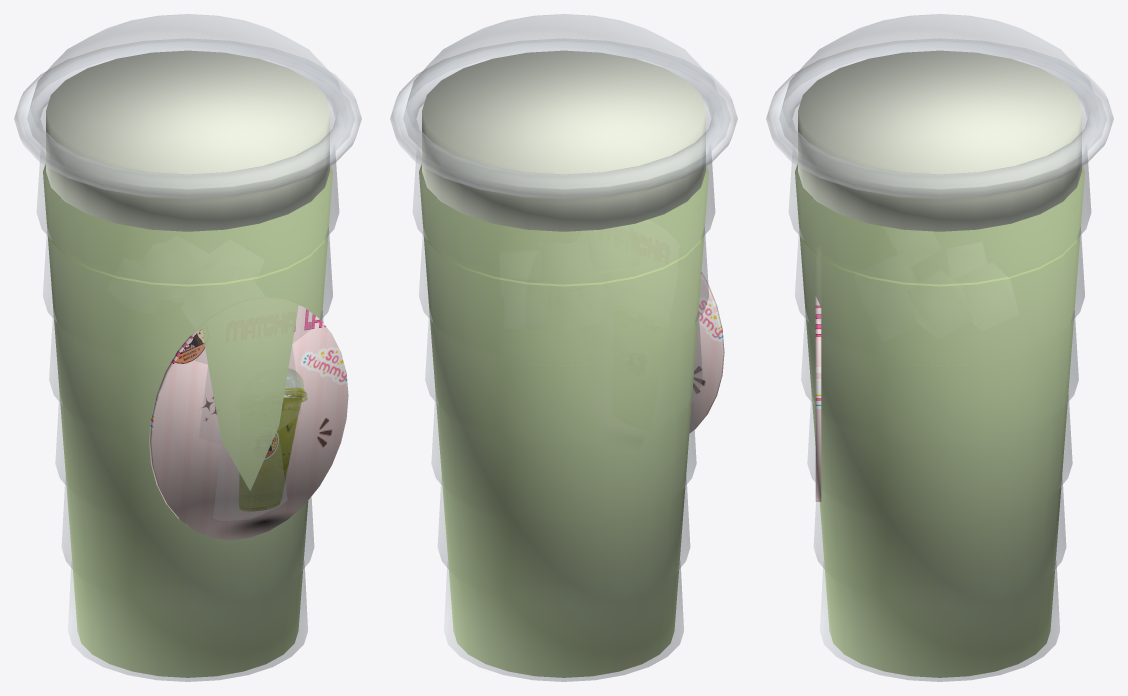
File: prop_matcha_latte.glb
3 renders of one model, left to right at view 1: azimuth 30°, elevation 25°; view 2: azimuth 150°, elevation 25°; view 3: azimuth 270°, elevation 25°, orthographic.
Parts seen in each view (by area): view 1: prop_matcha_latte; view 2: prop_matcha_latte; view 3: prop_matcha_latte.
Part boxes in pixels (x1,y1,x2,y2): prop_matcha_latte: [14, 14, 361, 681]; prop_matcha_latte: [390, 14, 737, 681]; prop_matcha_latte: [766, 14, 1113, 681].
Bounding box in the file's own units: 0.0927 × 0.1742 × 0.0927.
5 materials, 1 textured.
